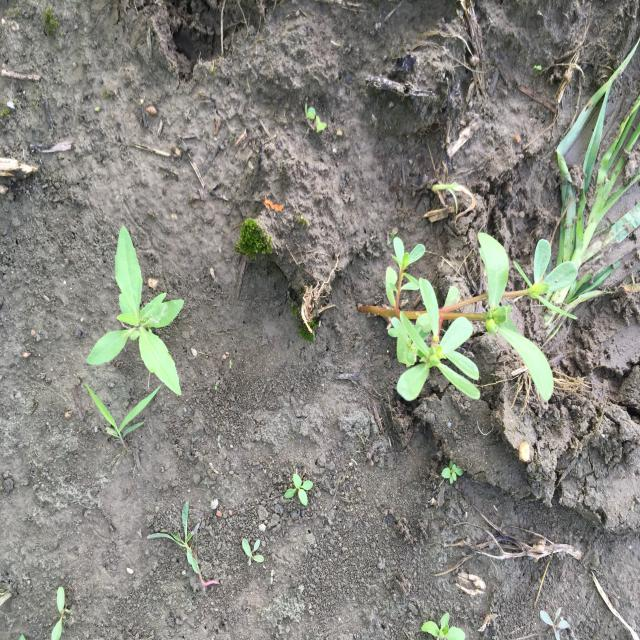Eclipta: (85, 223, 186, 399)
Purslane: (356, 230, 579, 404)
